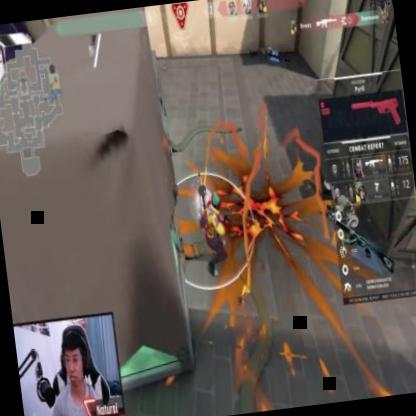enemy: (196, 189, 240, 283)
enemy_head: (210, 190, 221, 210)
